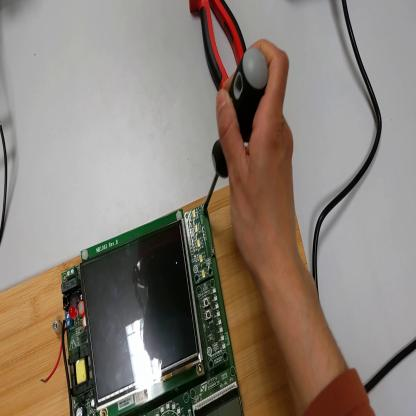hand: (213, 44, 301, 277)
low voltage board: (41, 205, 244, 416)
pliers: (191, 2, 248, 90)
screwdriver-: (203, 45, 272, 208)
working area: (2, 184, 307, 416)
